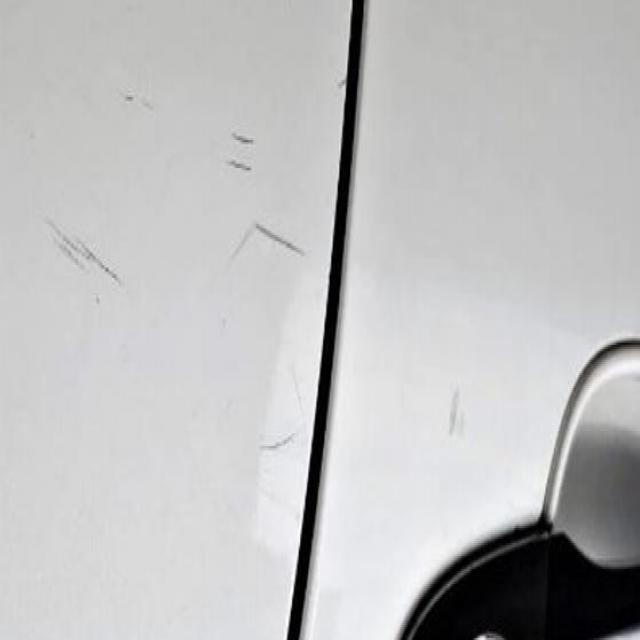scratch: (34, 205, 132, 322), (228, 213, 308, 284), (242, 419, 310, 473), (216, 125, 265, 183)
